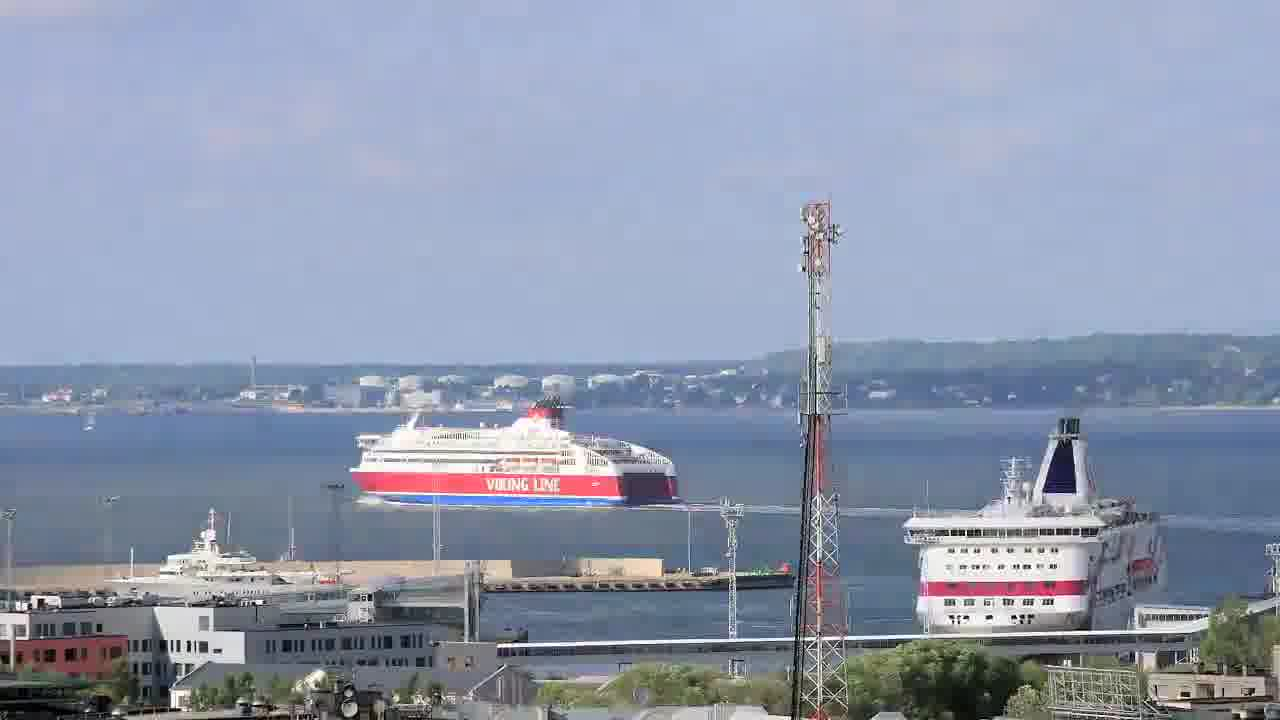type-2: (90, 394, 133, 450)
type-3: (889, 419, 1189, 638), (342, 377, 690, 512), (89, 518, 402, 620)
